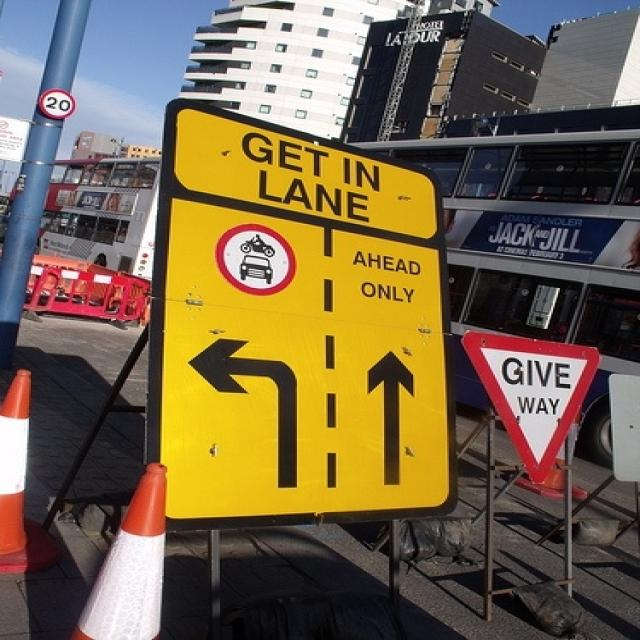forb_speed_over_20: (35, 88, 78, 120)
